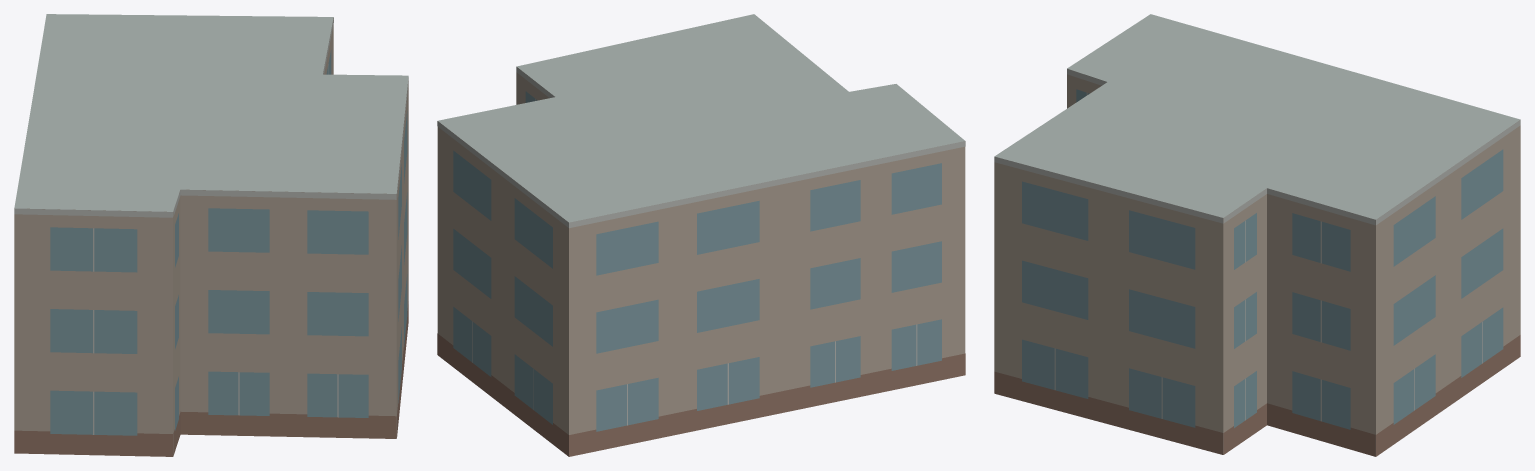
The model's file is survey-upis-32476281.glb.
3 views of the same model, side by side, from view 1: azimuth 30°, elevation 25°; view 2: azimuth 150°, elevation 25°; view 3: azimuth 270°, elevation 25° (orthographic). The views are drawn at different scales.
Visible parts, largest first — view 1: survey-upis-32476281.tmp; view 2: survey-upis-32476281.tmp; view 3: survey-upis-32476281.tmp.
Part boxes in pixels (x1=…): survey-upis-32476281.tmp: x1=14, y1=14, x2=408, y2=456; survey-upis-32476281.tmp: x1=437, y1=14, x2=965, y2=456; survey-upis-32476281.tmp: x1=994, y1=14, x2=1520, y2=456.
Bounding box in the file's own units: 19 × 10.2 × 20.53.
